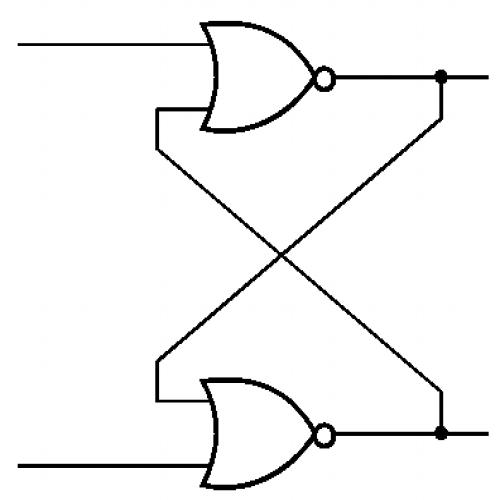nor: (191, 10, 345, 147), (195, 368, 345, 497)
